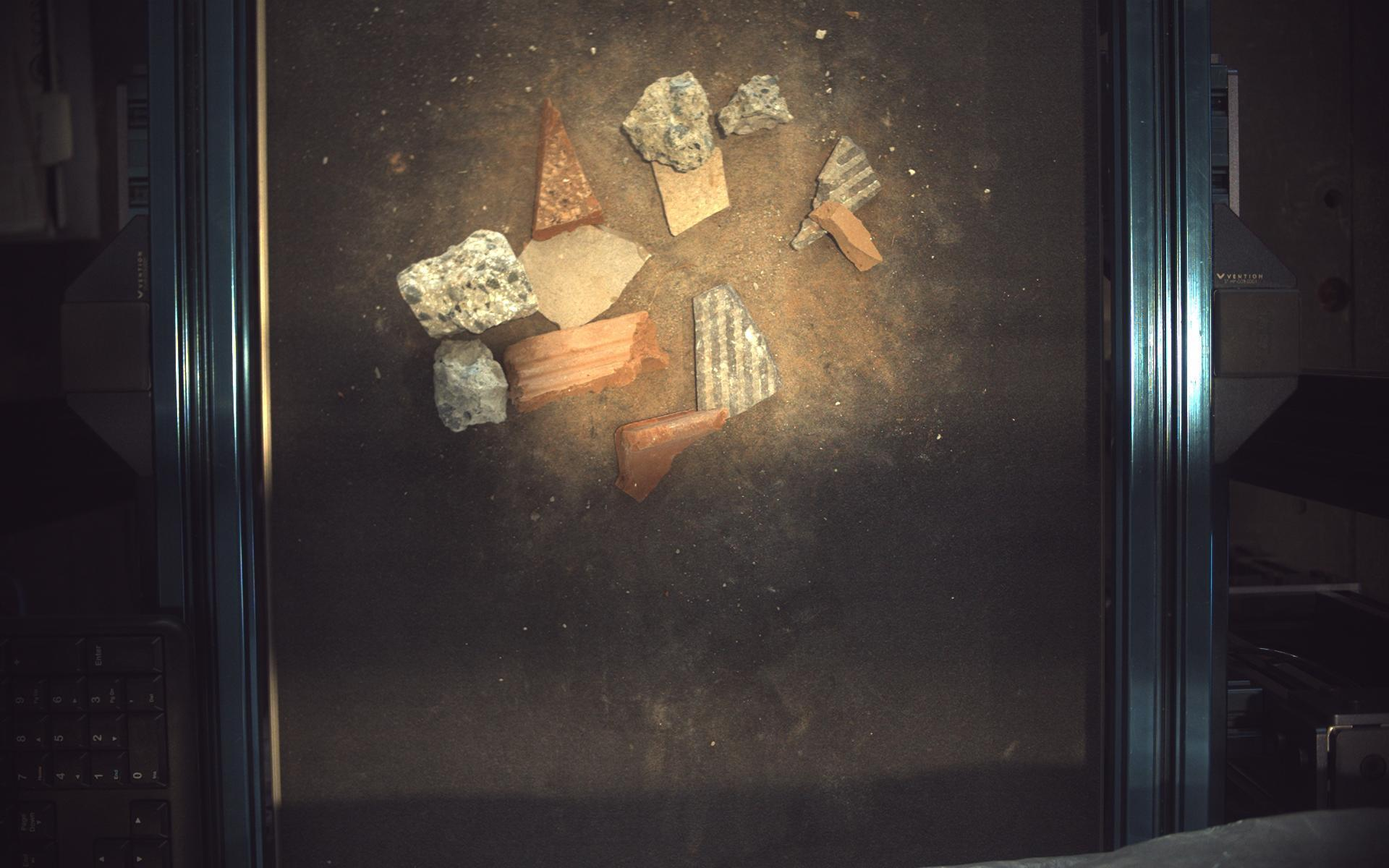brick: (504, 310, 670, 412), (616, 409, 730, 502), (532, 98, 605, 240), (810, 200, 884, 271)
concrete: (398, 229, 538, 338), (624, 70, 715, 171), (434, 339, 508, 433), (719, 75, 794, 134)
tile: (519, 224, 651, 328), (694, 284, 783, 417), (653, 147, 731, 235), (814, 135, 883, 212), (792, 217, 828, 249)
